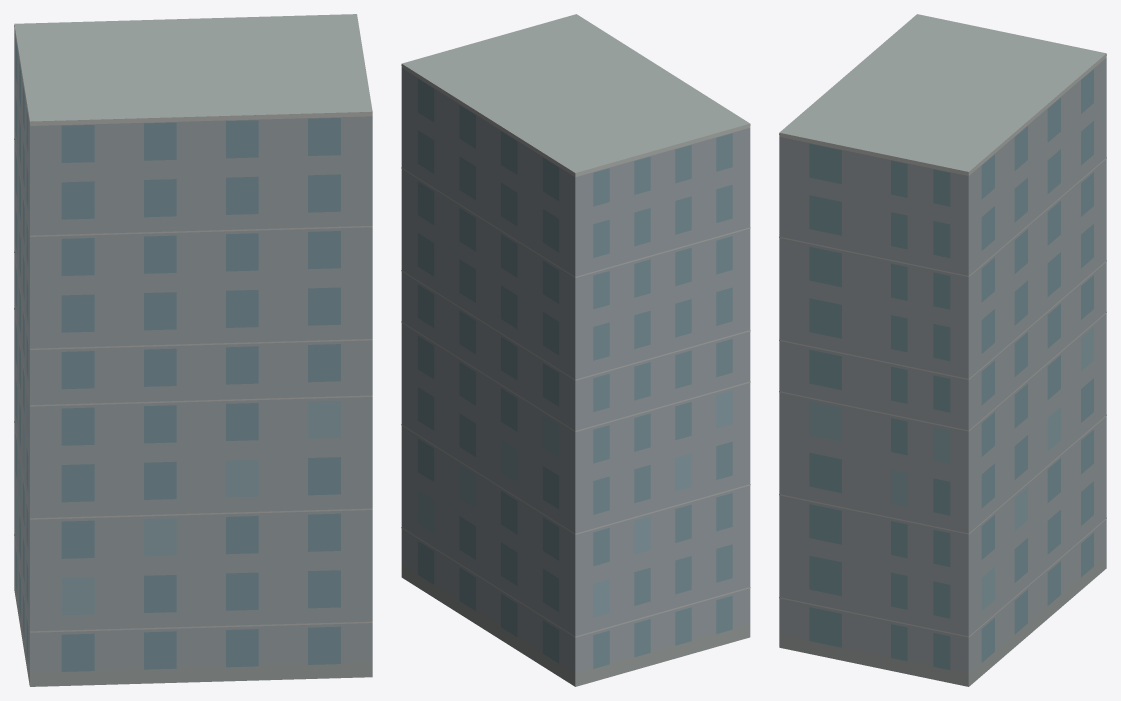
The model's file is residential-e2dd1eb9-eceb-4c85-a7b4-6f90a7bd3abb.glb.
The picture shows the model from 3 angles, left to right: view 1: azimuth 30°, elevation 25°; view 2: azimuth 150°, elevation 25°; view 3: azimuth 270°, elevation 25°; orthographic projection. The views are drawn at different scales.
Parts seen in each view (by area): view 1: residential-e2dd1eb9-eceb-4c85-a7b4-6f90a7bd3abb.tmp; view 2: residential-e2dd1eb9-eceb-4c85-a7b4-6f90a7bd3abb.tmp; view 3: residential-e2dd1eb9-eceb-4c85-a7b4-6f90a7bd3abb.tmp.
Boxes of the visible parts, box(x1,y1,x2,y2) form: residential-e2dd1eb9-eceb-4c85-a7b4-6f90a7bd3abb.tmp: box(14, 14, 372, 686); residential-e2dd1eb9-eceb-4c85-a7b4-6f90a7bd3abb.tmp: box(401, 14, 750, 686); residential-e2dd1eb9-eceb-4c85-a7b4-6f90a7bd3abb.tmp: box(779, 14, 1106, 686).
Bounding box in the file's own units: 20.09 × 30.5 × 17.6.
